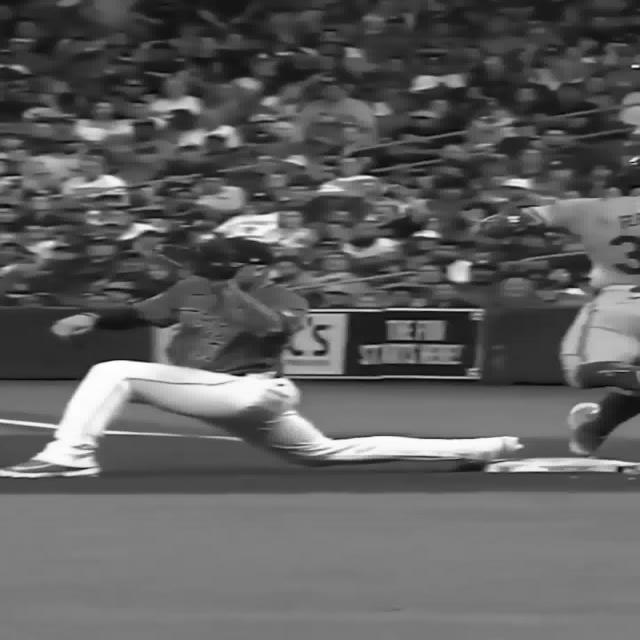base: (485, 458, 640, 475)
baseball_glove: (162, 234, 236, 280)
shoe: (567, 402, 606, 456), (0, 459, 100, 479), (473, 436, 525, 462)
